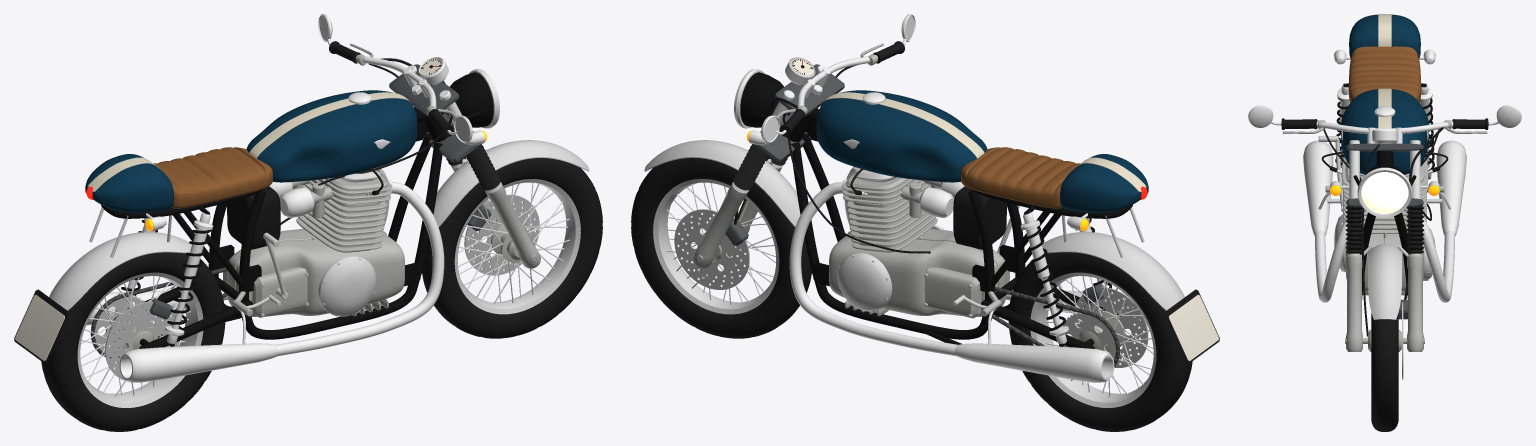
Rendered from moto.glb.
The picture shows the model from 3 angles, left to right: view 1: azimuth 30°, elevation 25°; view 2: azimuth 150°, elevation 25°; view 3: azimuth 270°, elevation 25°; orthographic projection. The views are drawn at different scales.
Visible parts, largest first — view 1: roda_d_pneu, tanque, roda_t_pneu, quadro, escape_d, motor_carter, motor_cilindros, banco, paralama_t, roda_d_aro, rabeta, paralama_d (+28 smaller); view 2: roda_d_pneu, tanque, roda_t_pneu, quadro, motor_carter, escape_e, motor_cilindros, banco, paralama_t, rabeta, roda_d_aro, roda_d_disco (+26 smaller); view 3: tanque, escape_e, escape_d, banco, roda_d_pneu, garfo_canelas, paralama_d, rabeta, farol_lente, garfo_sanfonas, motor_cilindros, cabos (+18 smaller).
Boxes of the visible parts, <box> form: roda_d_pneu: <box>422,158,602,338</box>; tanque: <box>246,90,417,182</box>; roda_t_pneu: <box>41,252,225,431</box>; quadro: <box>101,108,447,339</box>; escape_d: <box>119,179,444,382</box>; motor_carter: <box>223,228,404,317</box>; motor_cilindros: <box>296,175,392,252</box>; banco: <box>153,147,272,208</box>; paralama_t: <box>49,207,191,310</box>; roda_d_aro: <box>454,179,580,314</box>; rabeta: <box>85,154,173,213</box>; paralama_d: <box>433,140,589,227</box>; roda_d_pneu: <box>631,158,811,338</box>; tanque: <box>816,90,987,182</box>; roda_t_pneu: <box>1008,252,1192,431</box>; quadro: <box>786,108,1132,339</box>; motor_carter: <box>829,228,1009,318</box>; escape_e: <box>789,179,1114,382</box>; motor_cilindros: <box>841,175,937,252</box>; banco: <box>961,147,1080,208</box>; paralama_t: <box>1042,207,1184,310</box>; rabeta: <box>1060,154,1148,213</box>; roda_d_aro: <box>653,179,779,314</box>; roda_d_disco: <box>674,209,749,289</box>; tanque: <box>1341,89,1428,174</box>; escape_e: <box>1422,140,1466,302</box>; escape_d: <box>1303,140,1347,302</box>; banco: <box>1348,46,1421,102</box>; roda_d_pneu: <box>1371,313,1398,431</box>; garfo_canelas: <box>1345,254,1424,351</box>; paralama_d: <box>1361,243,1408,319</box>; rabeta: <box>1349,14,1420,58</box>; farol_lente: <box>1361,172,1408,213</box>; garfo_sanfonas: <box>1345,205,1424,253</box>; motor_cilindros: <box>1342,158,1427,233</box>; cabos: <box>1321,127,1448,336</box>.
Size of the model in its own units: 2.14 by 1.07 by 0.9896.
